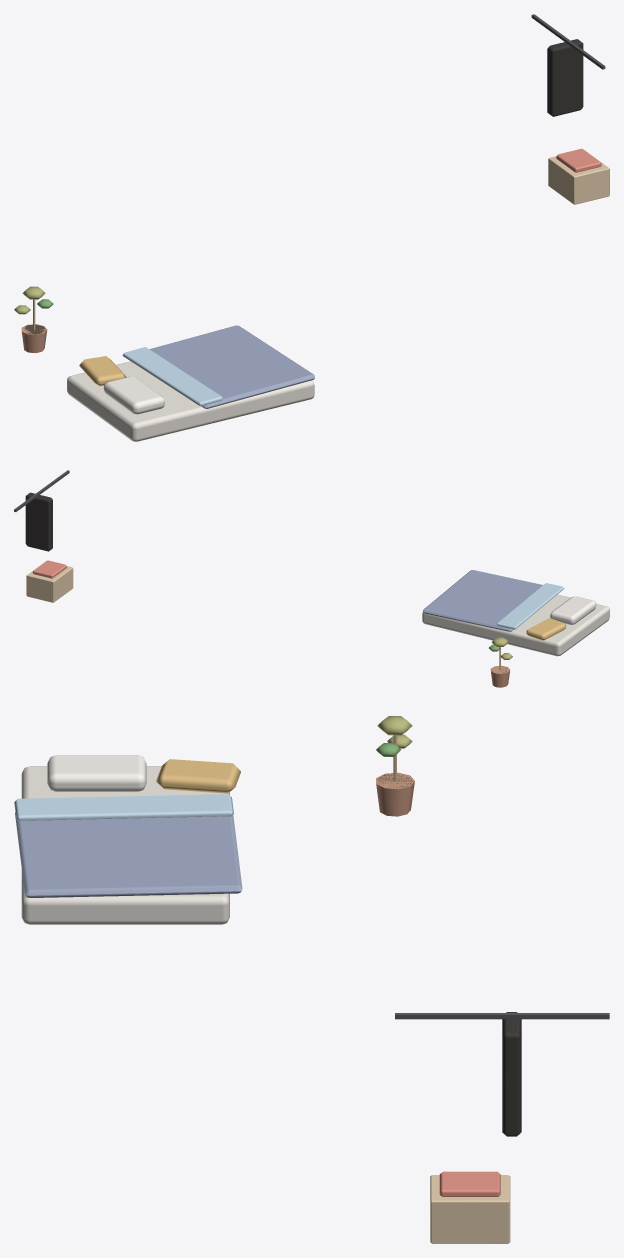
The model's file is einrichtung_zimmer_buehne.glb.
The picture shows the model from 3 angles, top to bottom: view 1: azimuth 30°, elevation 25°; view 2: azimuth 150°, elevation 25°; view 3: azimuth 270°, elevation 25°; orthographic projection. The views are drawn at different scales.
Parts seen in each view (by area): view 1: einrichtung_zimmer_buehne; view 2: einrichtung_zimmer_buehne; view 3: einrichtung_zimmer_buehne.
Boxes of the visible parts, x1,y1,x2,y2 form: einrichtung_zimmer_buehne: (14, 14, 609, 441); einrichtung_zimmer_buehne: (14, 470, 609, 687); einrichtung_zimmer_buehne: (14, 716, 609, 1243).
Bounding box in the file's own units: 6.68 × 1.5 × 3.72.
